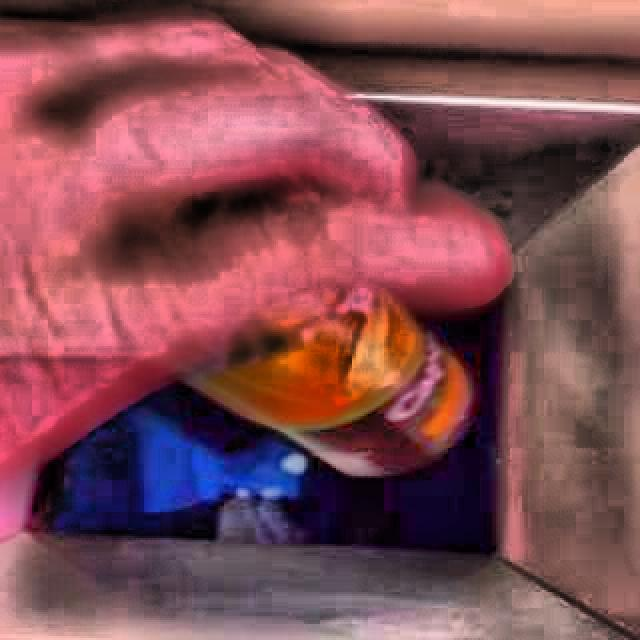metal: (189, 288, 472, 475)
